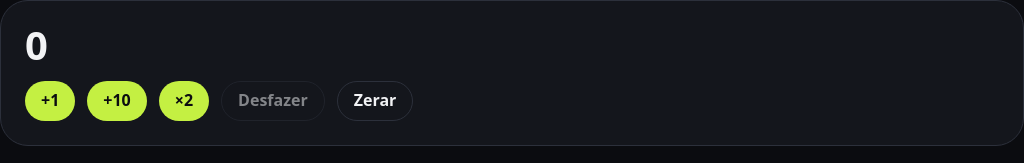
os botões despacham ações
Click the button "+10" at coordinates (117, 101), box [87,81,147,121]
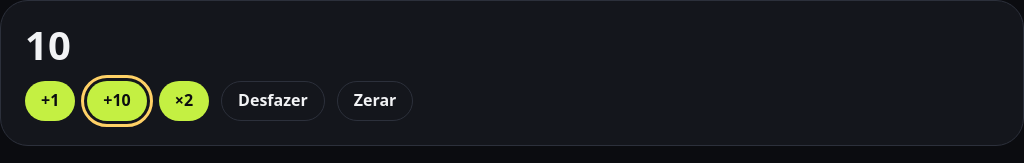
Click the button "×2" at coordinates (184, 101), box [159,81,209,121]
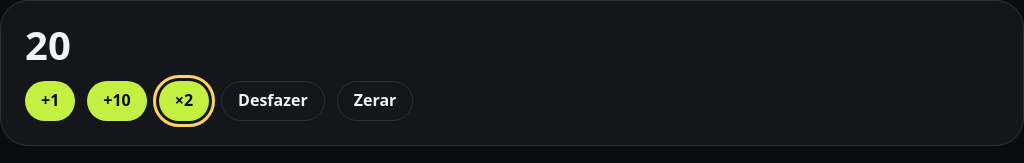
Now the text named "Valor: 20" is shown, box [25,17,71,72]
Click the button "Desfazer" at coordinates (273, 101), box [221,81,325,121]
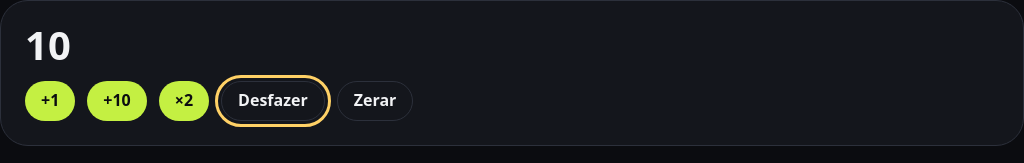
Now the text named "Valor: 10" is shown, box [25,17,71,72]
